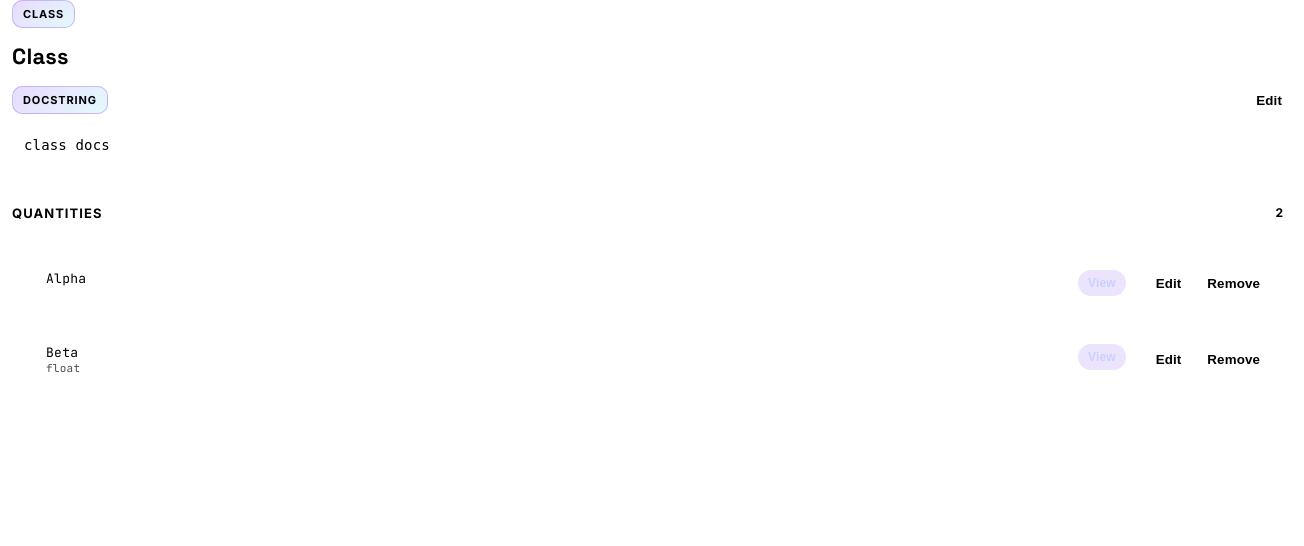
Scenario: DocPanel › switches from class view to quantity view and back
The image size is (1304, 546).
Check: the text "Class" is shown, box x1=12 y1=0 x2=75 y2=28
Check: the text "Quantities" is shown, box x1=12 y1=205 x2=102 y2=221
Step 1. Click the button "Beta float View" → (62, 353), box x1=34 y1=334 x2=1138 y2=385
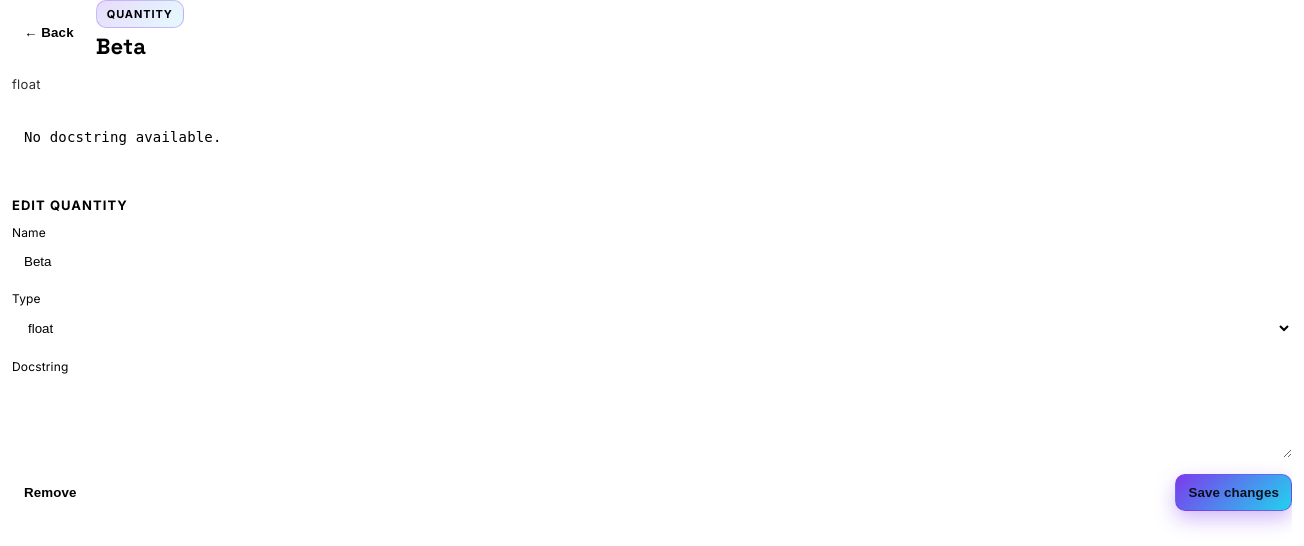
Check: the text "Quantity" is shown, box x1=96 y1=0 x2=184 y2=28
Check: the heading "Beta" is shown, box x1=96 y1=32 x2=146 y2=60
Check: the button "← Back" is enabled
Step 2. Click the button "← Back" → (49, 32), box x1=12 y1=14 x2=86 y2=50
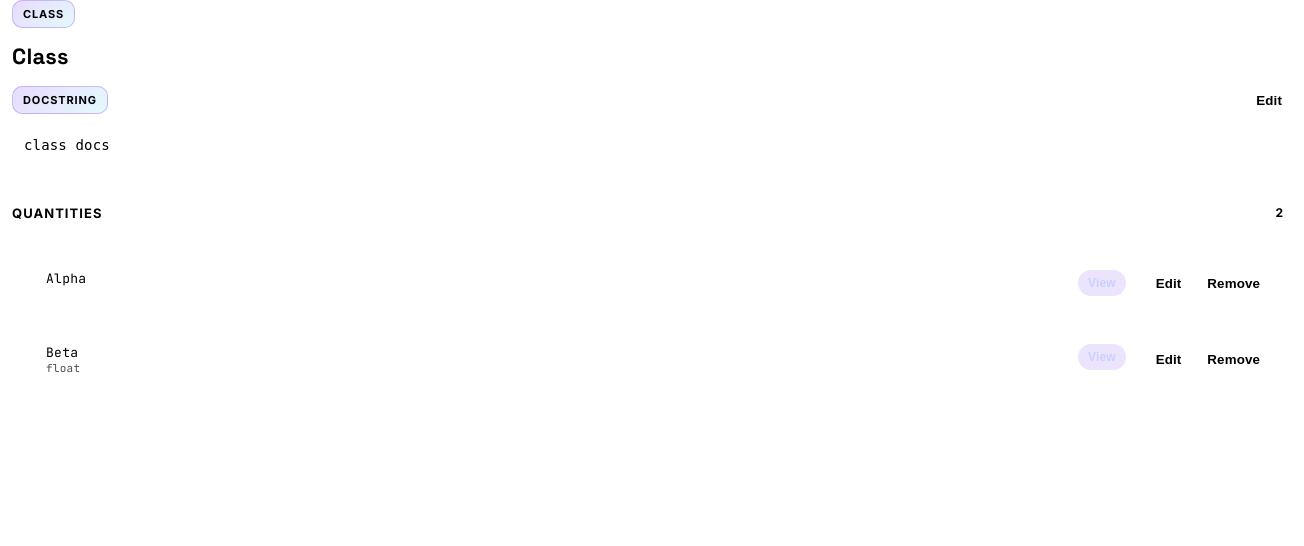
Check: the text "Class" is shown, box x1=12 y1=0 x2=75 y2=28
